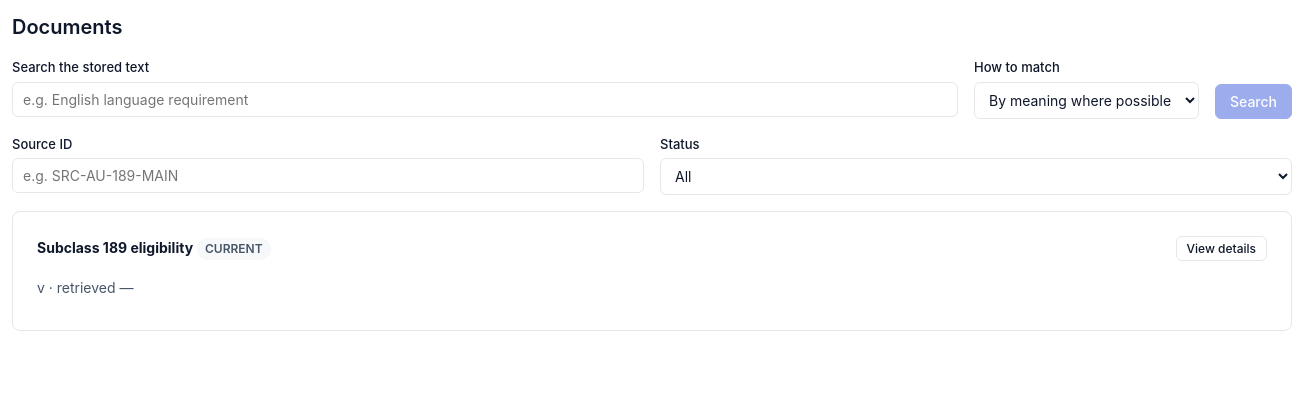
Scenario: DocumentsPage › is honest when meaning-based search is off and words were matched instead
Type "english" into the field labelled "Search the stored text" at (485, 99), box [12,82,958,116]
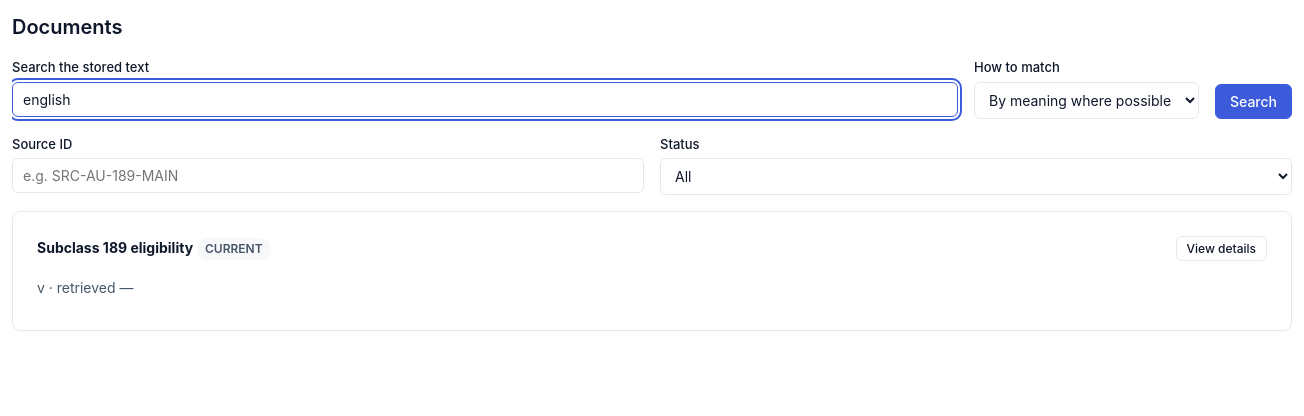
Click the button "Search" at (1254, 101), box [1215,84,1292,118]
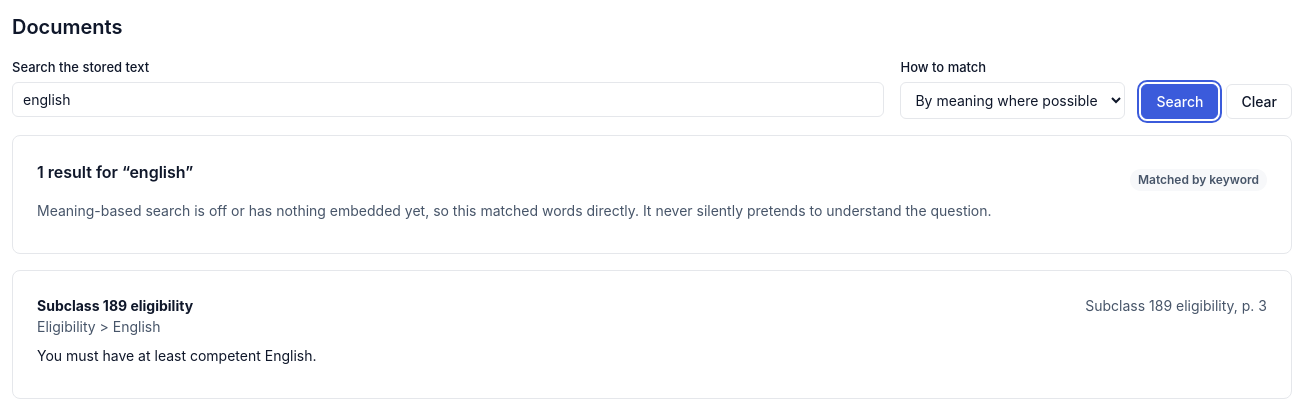
Expected: the text "Matched by keyword" is shown, [1130,168,1267,190]
Expected: the text "Meaning-based search is off" is shown, [37,202,992,218]
